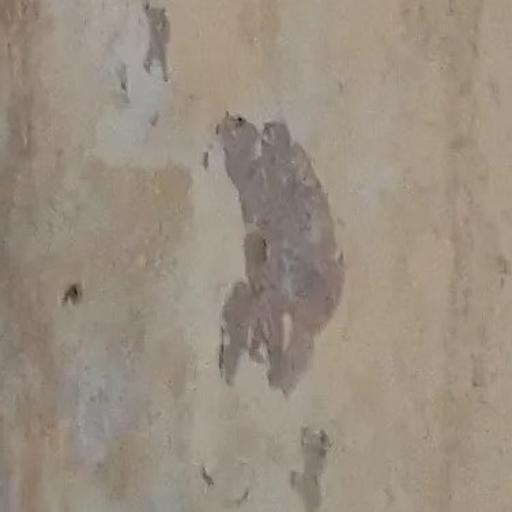peeling: (184, 114, 334, 412), (116, 0, 202, 108), (263, 412, 348, 512)
